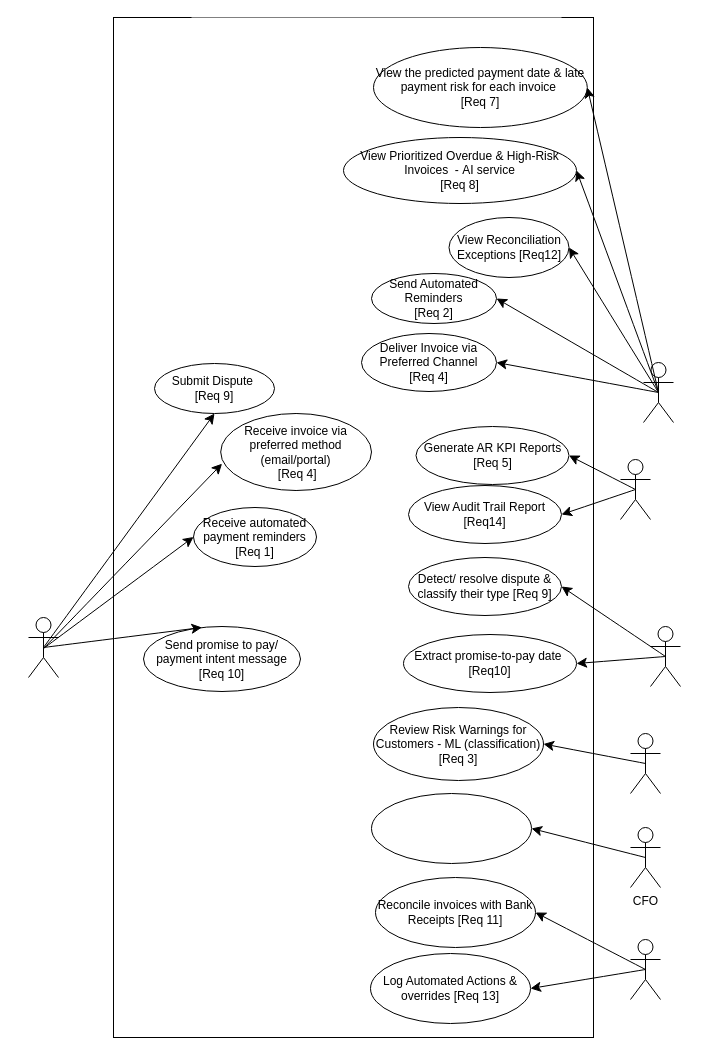
Image size: 714x1055. Some labels were removed from this diagram. The shapes that lost their labels are listed below. From the top down, each one's centre as x and y in pixels, then its label:
At point (376, 32): "AI-Enhanced Account Receivables System".
At point (658, 392): "AR Specialist".
At point (635, 489): "AR Manager".
At point (43, 647): "Customer".
At point (665, 656): "NLP system".
At point (645, 763): "Credit Manager".
At point (451, 828): "View AI-based Cashflow Forecast (ML) [Req 6]".
At point (645, 969): "RPA system".
